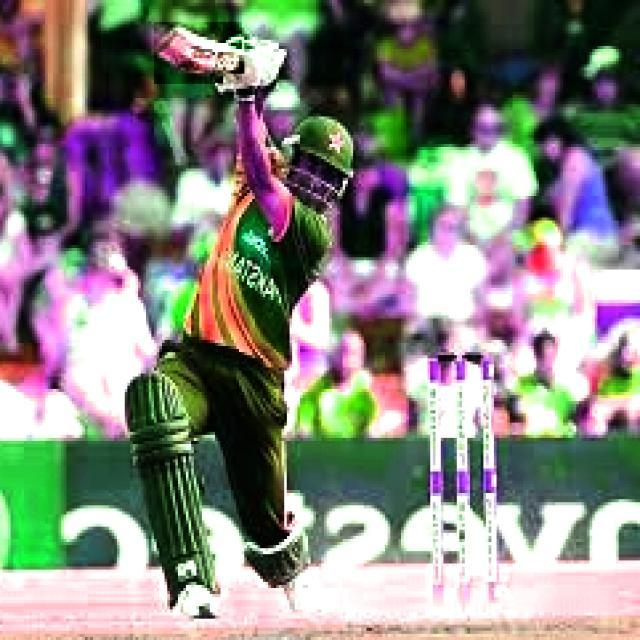bat: (145, 24, 243, 77)
toe: (146, 25, 182, 52)
